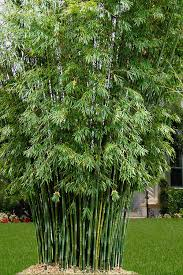bamboo: (4, 2, 127, 260), (35, 3, 180, 182)
